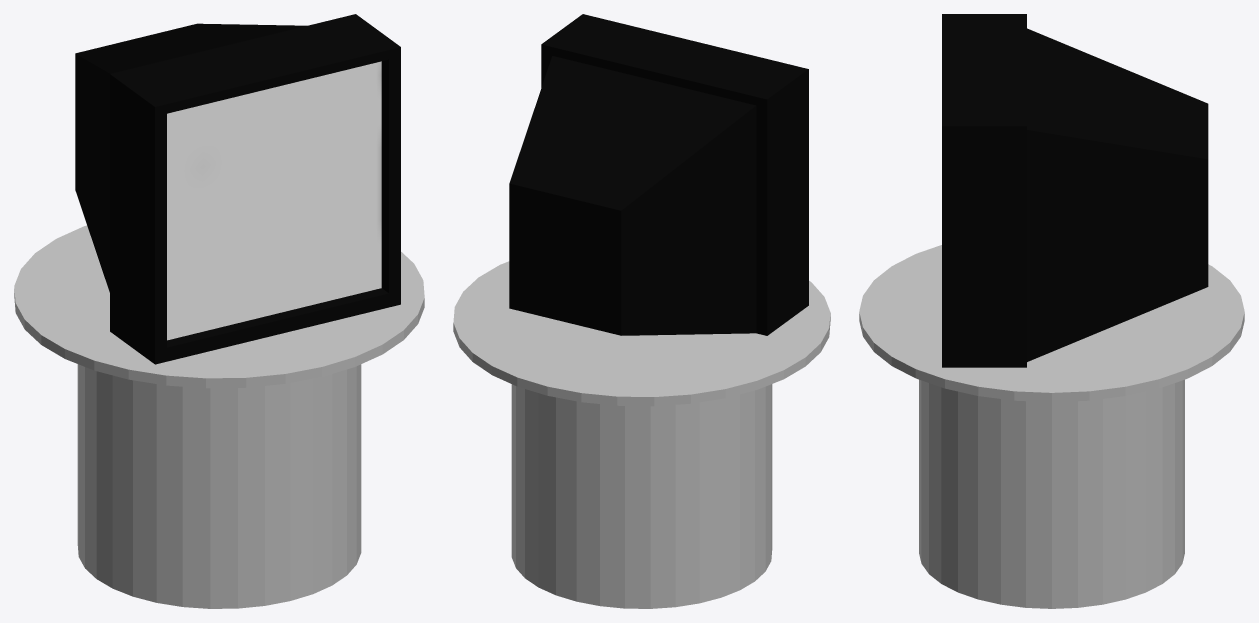
Rendered from terminal.obj.
The picture shows the model from 3 angles, left to right: view 1: azimuth 30°, elevation 25°; view 2: azimuth 150°, elevation 25°; view 3: azimuth 270°, elevation 25°; orthographic projection. The views are drawn at different scales.
Visible parts, largest first — view 1: Cube, desk; view 2: Cube, desk; view 3: desk, Cube.
Part boxes in pixels (x1=…): Cube: x1=75, y1=14, x2=400, y2=364; desk: x1=14, y1=225, x2=424, y2=608; Cube: x1=509, y1=14, x2=808, y2=335; desk: x1=453, y1=261, x2=830, y2=608; desk: x1=859, y1=245, x2=1244, y2=608; Cube: x1=942, y1=14, x2=1208, y2=367.
Bounding box in the file's own units: 1.45 × 2 × 1.45.
